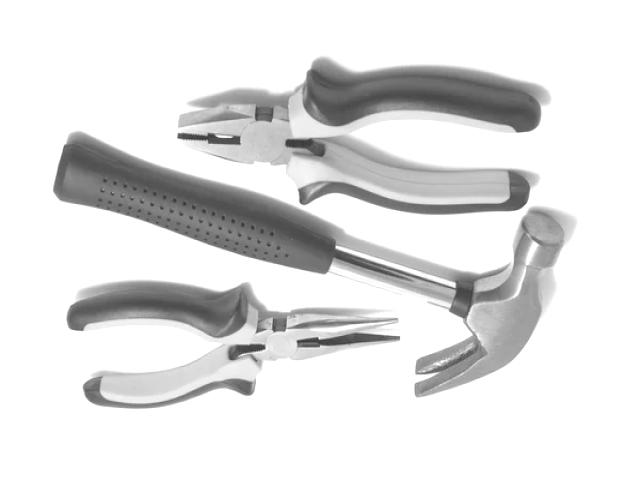Hammer: (55, 145, 564, 397)
Needle-nose pliers: (68, 288, 400, 408)
Pliers: (178, 71, 541, 214)
